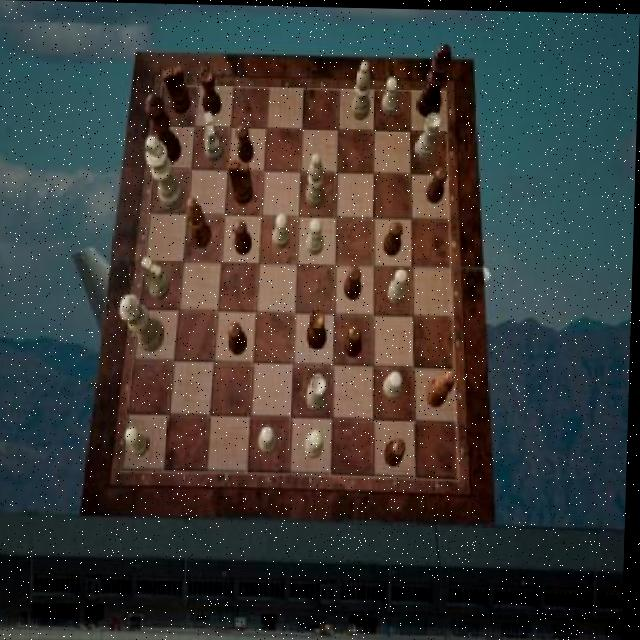bishop: (187, 197, 212, 250), (428, 367, 458, 406)
black-bishop: (416, 41, 452, 116)
black-king: (162, 64, 191, 114), (228, 160, 255, 204)
black-knight: (428, 165, 449, 203), (237, 124, 255, 163), (384, 219, 404, 254), (345, 324, 365, 357), (230, 322, 250, 355), (235, 219, 253, 254), (345, 265, 363, 299), (387, 438, 408, 466)
black-pawn: (145, 94, 184, 163)
black-queen: (197, 66, 222, 116), (308, 309, 328, 349)
black-rook: (306, 153, 328, 207), (352, 60, 372, 119)
white-bishop: (144, 135, 186, 210)
white-king: (142, 257, 173, 301), (204, 111, 225, 162)
white-knight: (128, 427, 153, 456), (389, 267, 409, 303), (306, 216, 324, 254), (381, 74, 398, 113), (273, 213, 291, 247), (383, 370, 404, 398), (306, 429, 326, 457), (261, 425, 279, 453)
white-pawn: (120, 293, 167, 351)
white-queen: (415, 111, 441, 158), (308, 372, 330, 410)
